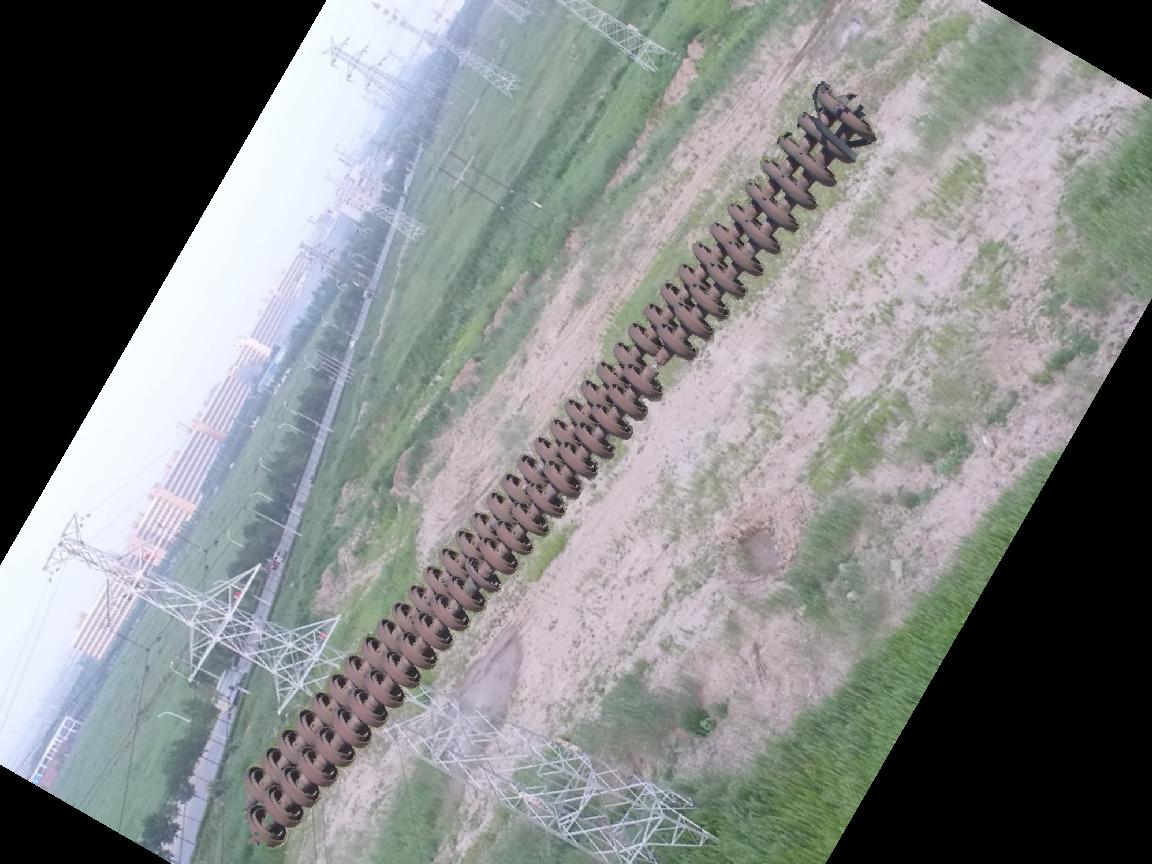insulator: (237, 73, 880, 852)
insulator_stringdrop: (619, 321, 698, 404)
